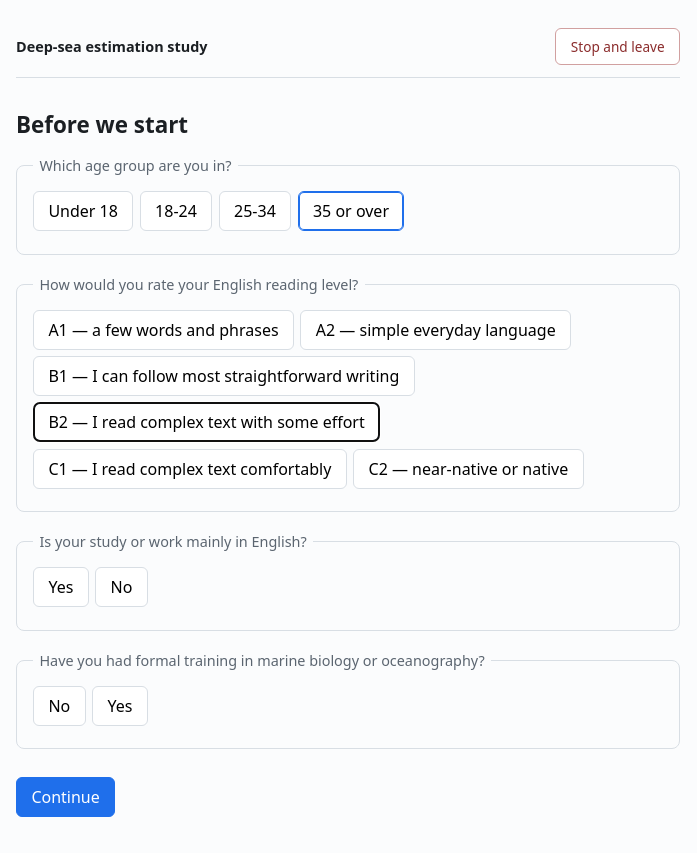
Scenario: estimate and confidence controls › shows no answer until the participant acts
Earlier steps of the test are not shown.
Click the button with test id "study-language-english" at (61, 587), box [33,567,89,607]
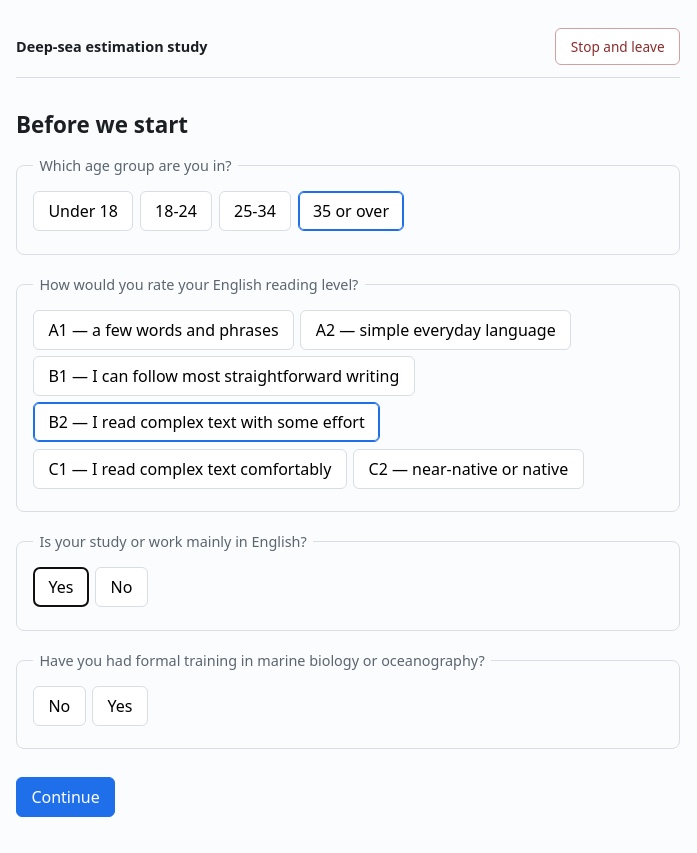
Click the button with test id "training-no" at (59, 706), box [33,686,86,726]
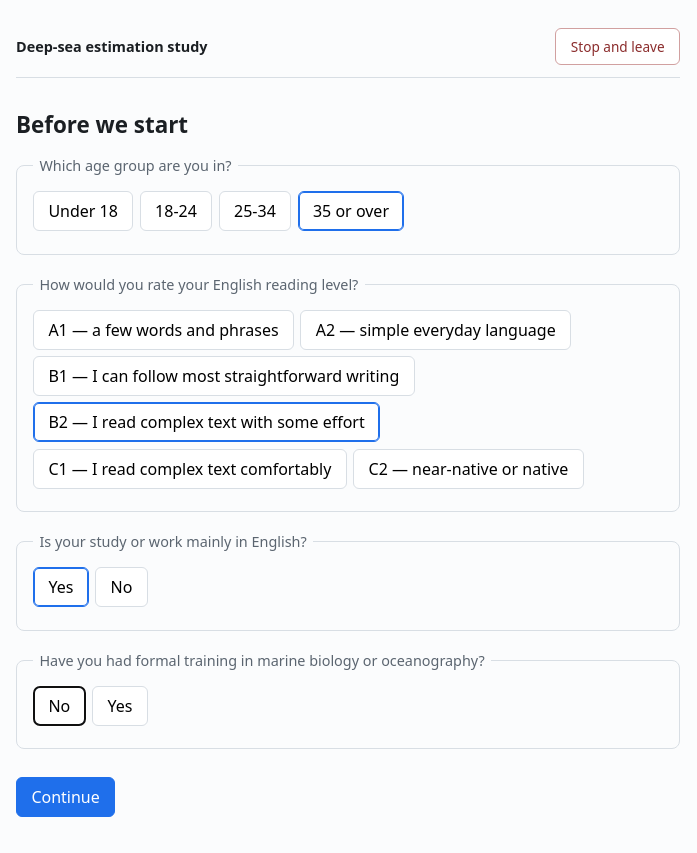
Click the button with test id "submit-eligibility" at (66, 797), box [16,777,115,817]
(page scrolled)
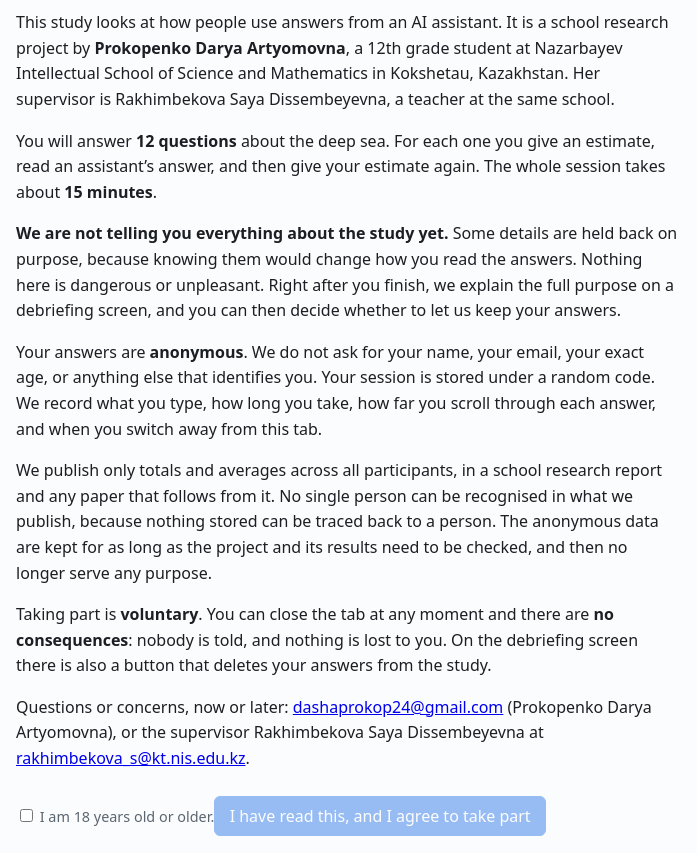
Click the checkbox with test id "confirm-adult" at (26, 815), box [20,809,33,822]
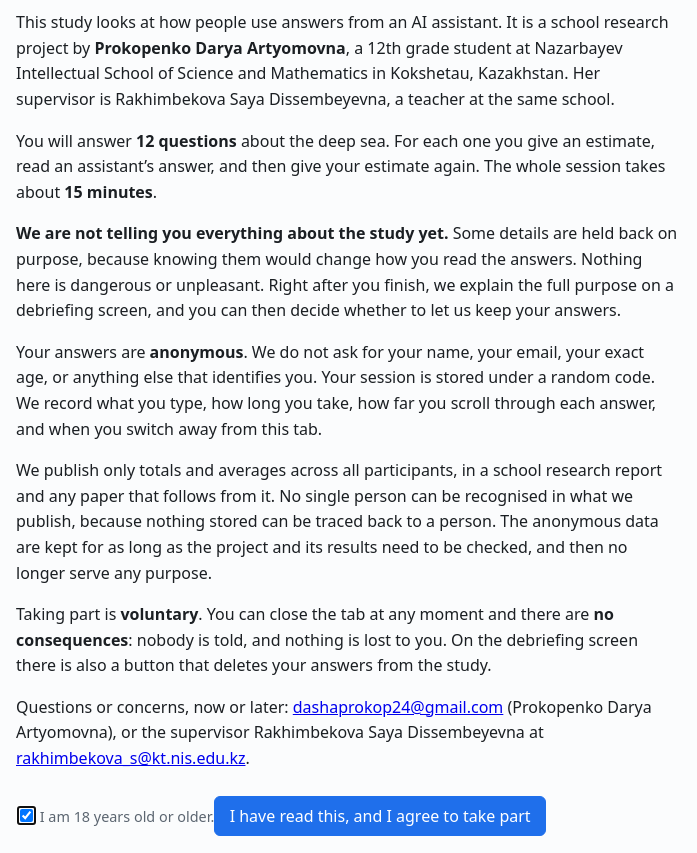
Click the button with test id "give-consent" at (380, 816), box [214,796,546,836]
(page scrolled)
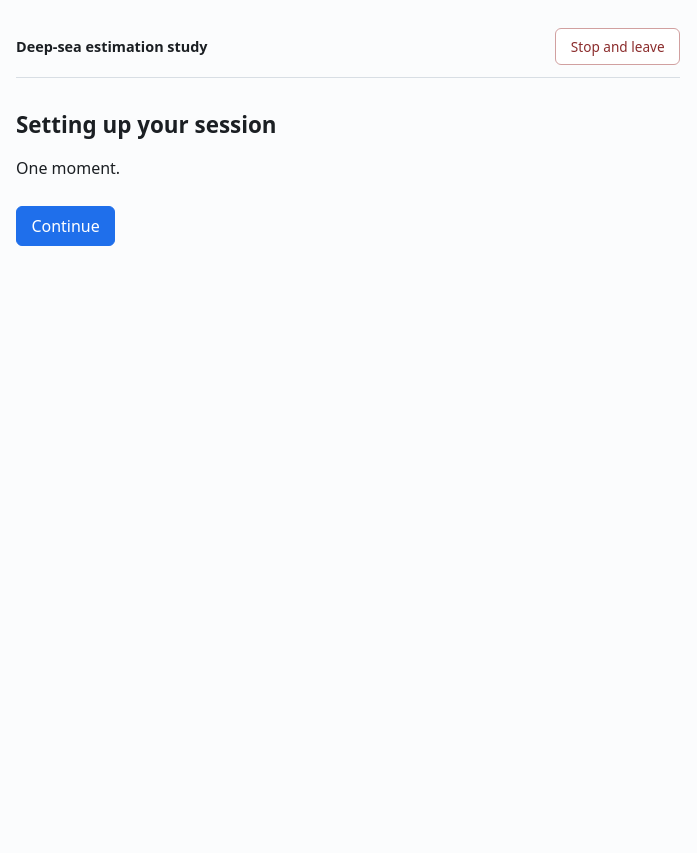
Click the button with test id "allocate" at (66, 226), box [16,206,115,246]
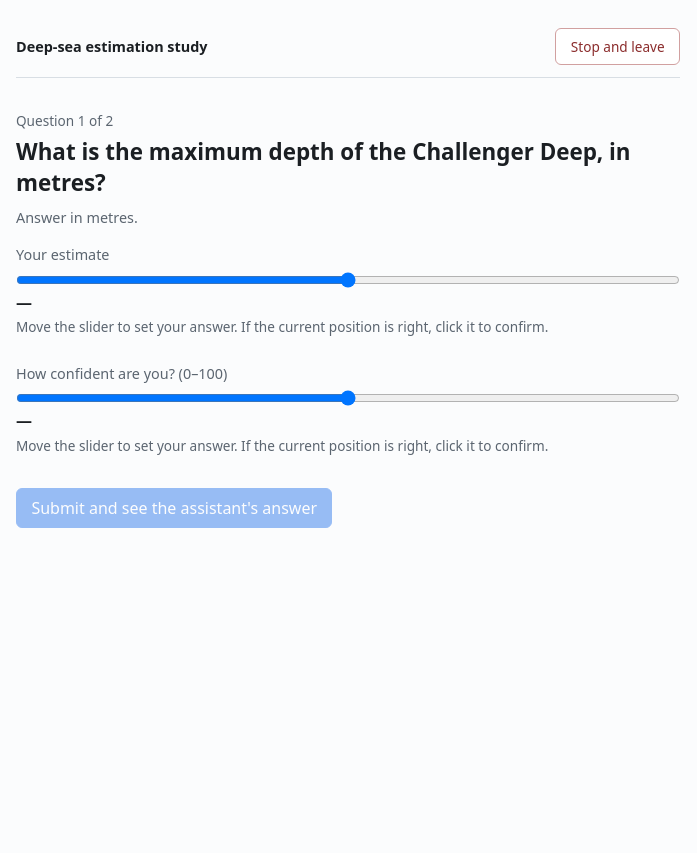
expect the text with test id "initial-estimate-value" reads "—": met, box [16,291,32,313]
expect the text with test id "initial-confidence-value" reads "—": met, box [16,409,32,431]
expect the button with test id "submit-initial" is disabled: met, box [16,488,332,528]
